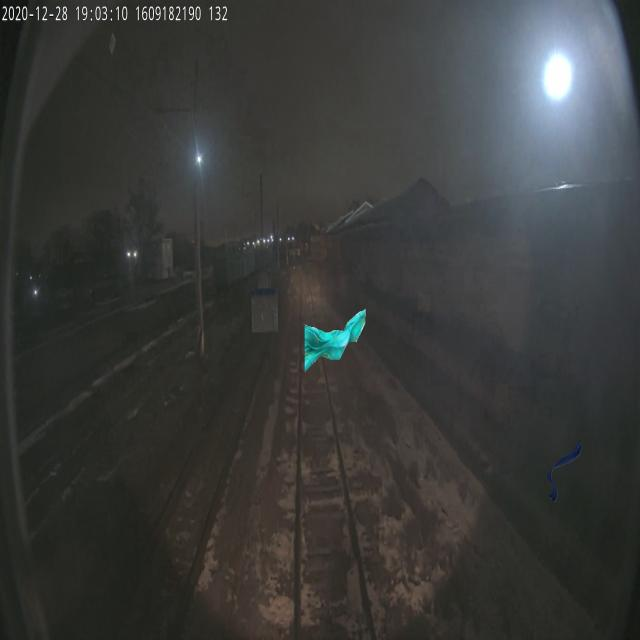floating object: (303, 308, 366, 372), (547, 438, 581, 502)
